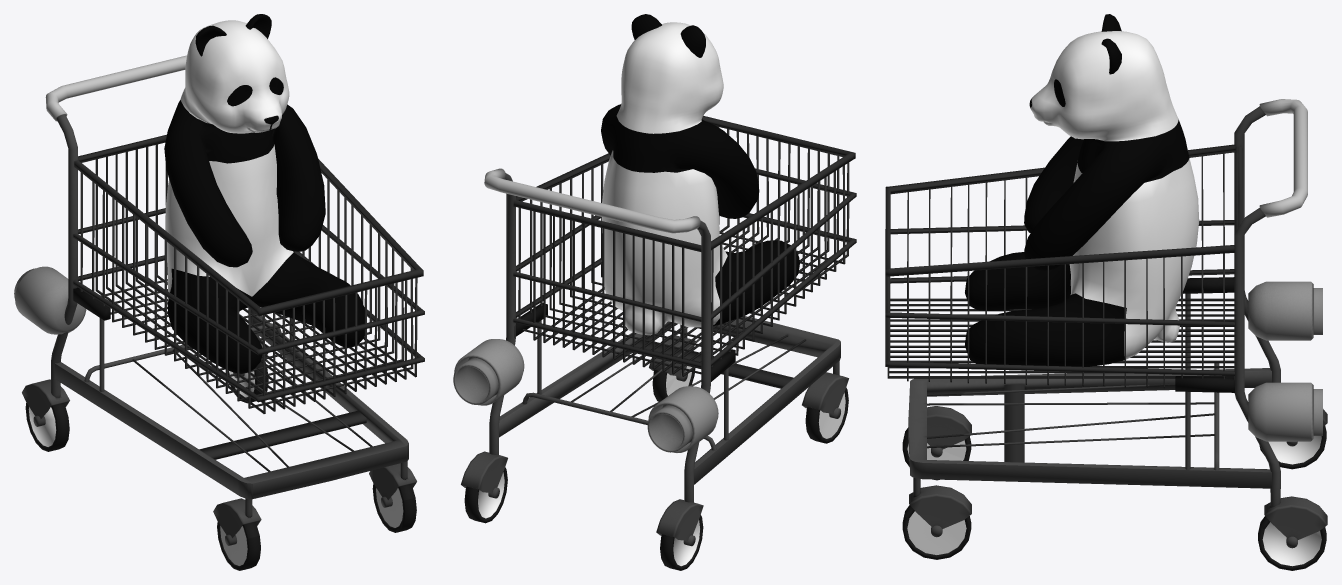
File: パンダ.fbx
The picture shows the model from 3 angles, left to right: view 1: azimuth 30°, elevation 25°; view 2: azimuth 150°, elevation 25°; view 3: azimuth 270°, elevation 25°; orthographic projection. The views are drawn at different scales.
Visible parts, largest first — view 1: 立方体.002, 円.001; view 2: 立方体.002, 円.001; view 3: 立方体.002, 円.001.
Part boxes in pixels (x1,y1,x2,y2): 立方体.002: (14,55,424,570); 円.001: (164,14,364,373); 立方体.002: (453,116,856,570); 円.001: (601,14,799,335); 立方体.002: (885,99,1327,570); 円.001: (965,14,1199,366).
Bounding box in the file's own units: 29.56 × 53.61 × 43.85.
Materials: 2 (2 with a texture image).
